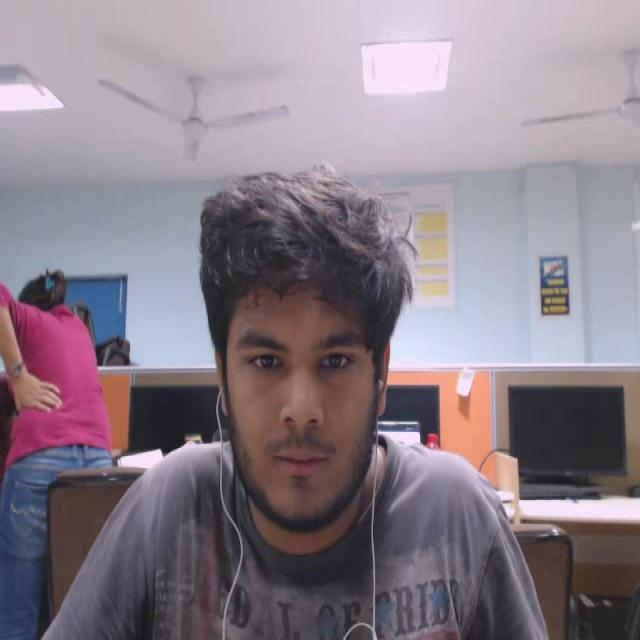Engaged: (178, 147, 434, 532)
